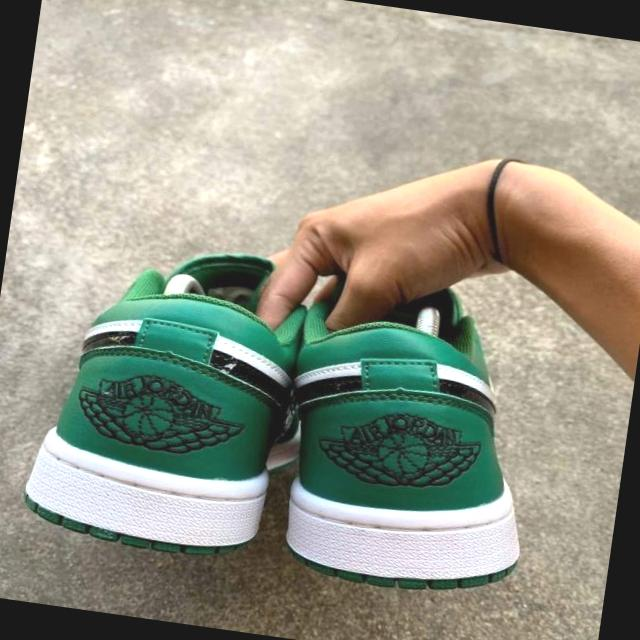nike_fake_jordan: (13, 229, 322, 568), (270, 260, 556, 605)
